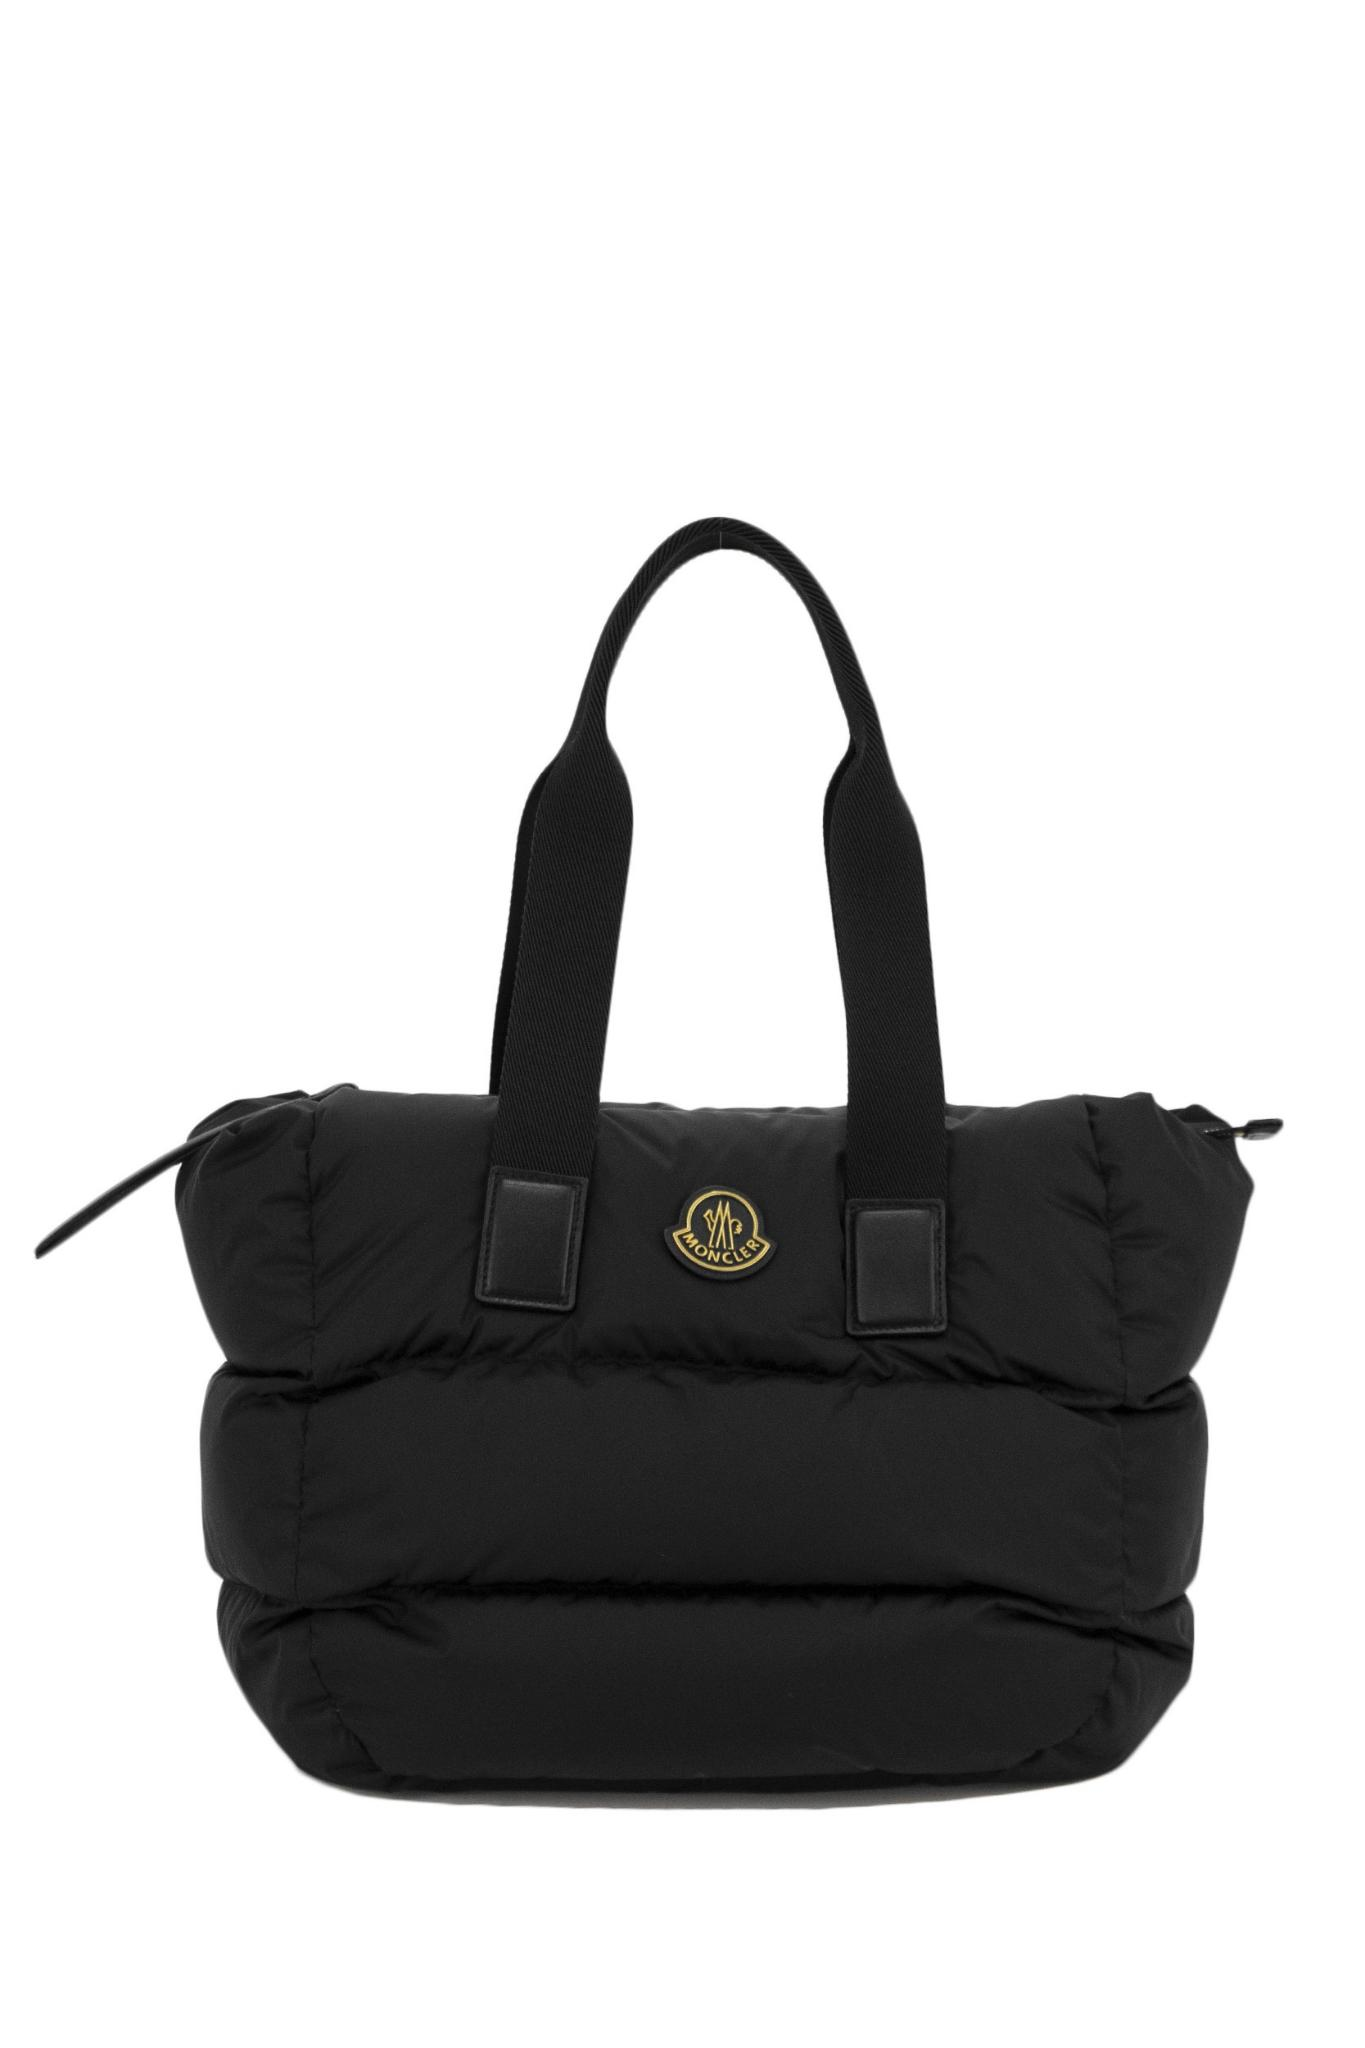MONCLER: (664, 1183, 778, 1284)
